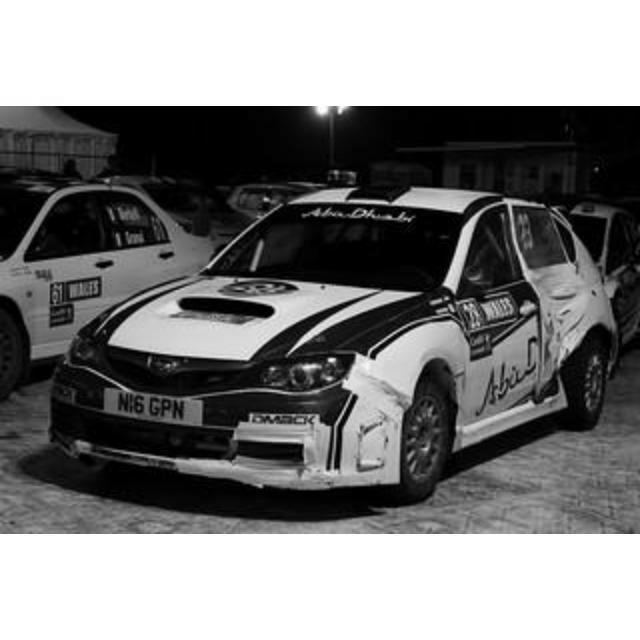doorouter-dent: (538, 266, 592, 368)
fender-dent: (388, 318, 464, 430)
front-bumper-dent: (188, 364, 384, 498)
